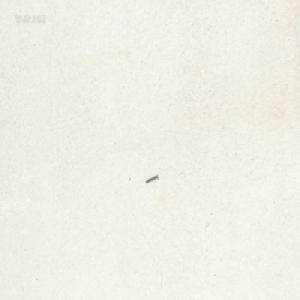Bolt: (144, 173, 157, 183)
